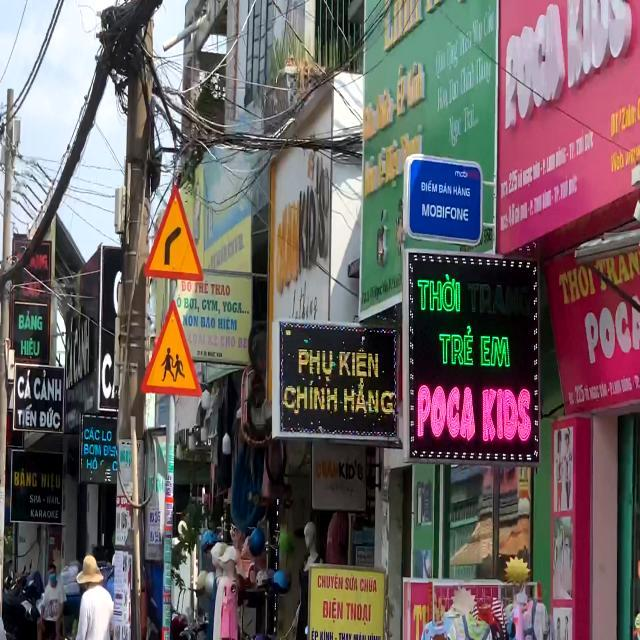Tre em: (140, 297, 202, 398)
cho ngoat nguy hiem vong ben phai: (142, 183, 205, 283)
